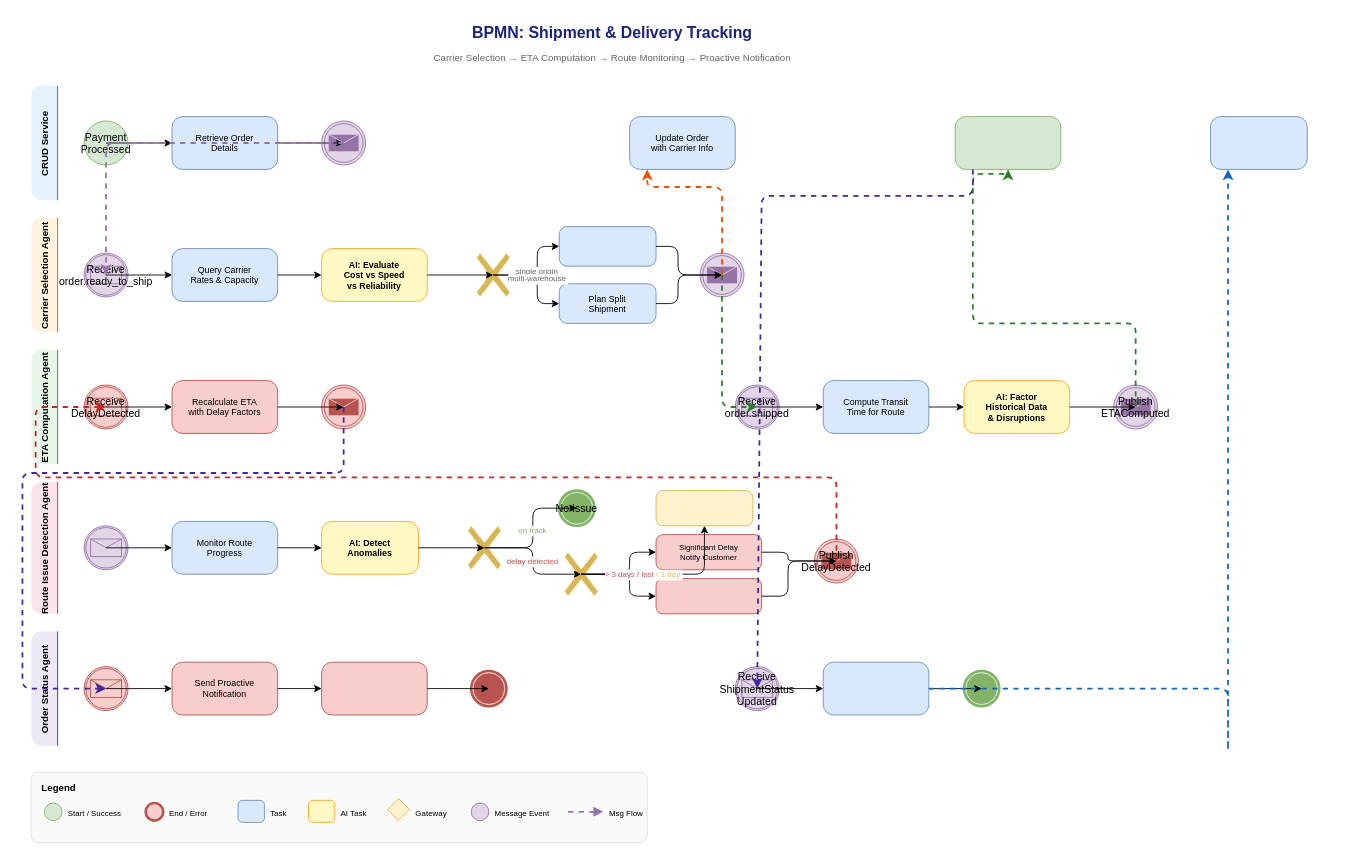
Image size: 1367x858. Some labels were removed from this diagram. Each missing label, with the box of its shape:
Minor Delay Update ETA only: (655, 490, 753, 526)
Provide Tracking to Customer: (954, 116, 1061, 169)
Publish CarrierSelected: (699, 252, 744, 297)
Publish ETAUpdated: (321, 384, 366, 429)
Publish order.ready_to_ship: (321, 120, 366, 165)
Receive ETAUpdated: (83, 666, 128, 711)
Receive order.in_transit: (83, 525, 128, 570)
Select Single Carrier: (558, 226, 656, 266)
Severe / Lost Escalate to Ops: (655, 578, 762, 614)
Update Tracking Page: (1210, 116, 1307, 169)
Update Tracking Page with New ETA: (321, 661, 427, 715)
Update Tracking Timeline: (822, 661, 929, 715)
